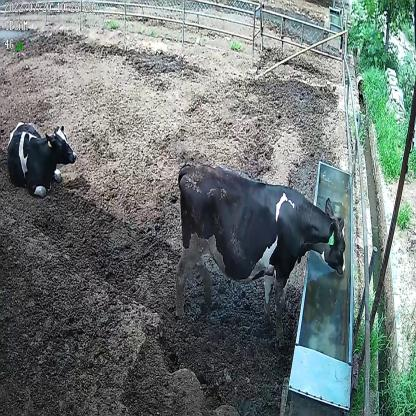cow: (173, 160, 347, 348), (5, 116, 78, 199)
